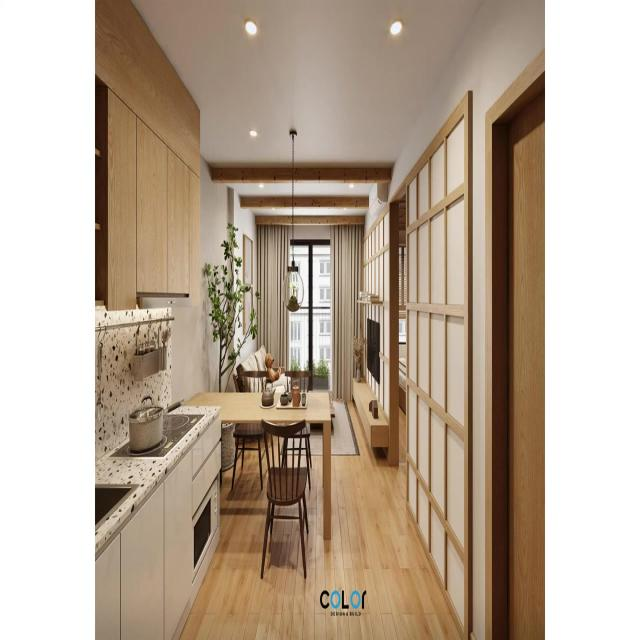door: (404, 90, 472, 637), (488, 45, 543, 639)
obstacle: (180, 388, 332, 544), (257, 420, 307, 586)
